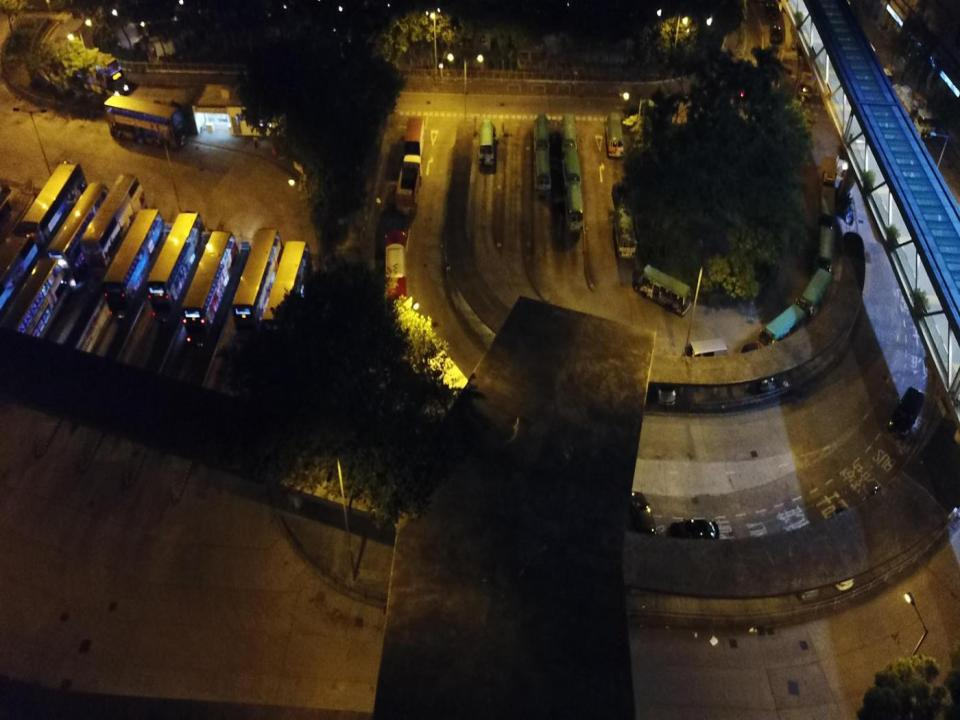bus: (102, 208, 166, 318), (80, 171, 147, 273), (182, 231, 240, 345), (47, 180, 113, 274), (263, 240, 316, 352), (147, 211, 205, 313), (0, 259, 67, 346), (232, 226, 285, 334), (20, 162, 88, 246), (104, 94, 189, 147), (0, 234, 40, 327), (54, 46, 127, 95), (636, 265, 690, 316), (758, 304, 806, 357), (384, 228, 407, 316), (800, 268, 832, 322), (811, 225, 835, 277), (614, 204, 636, 259), (477, 119, 495, 168), (566, 184, 584, 233), (561, 146, 580, 191), (534, 148, 550, 196), (818, 184, 836, 226), (533, 114, 550, 158), (607, 112, 623, 158), (562, 114, 576, 157), (798, 70, 814, 100)
car: (864, 485, 910, 536), (887, 384, 926, 438), (833, 504, 870, 555), (790, 542, 820, 602), (825, 534, 853, 593), (627, 490, 657, 536), (669, 517, 720, 543), (658, 362, 677, 407), (611, 183, 630, 208), (770, 22, 782, 43)
truck: (850, 29, 894, 95), (889, 83, 934, 142), (396, 154, 422, 212), (404, 116, 424, 156), (820, 154, 837, 185)
van: (686, 338, 727, 367), (742, 342, 768, 386)
